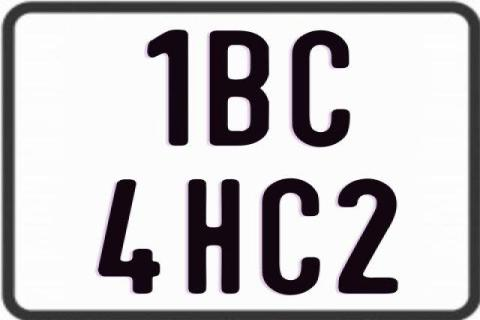0: (338, 177, 404, 297), (98, 178, 163, 294), (145, 28, 192, 146)
B: (209, 29, 270, 144)
C: (259, 177, 320, 295), (290, 29, 350, 147)
H: (185, 179, 237, 297)
